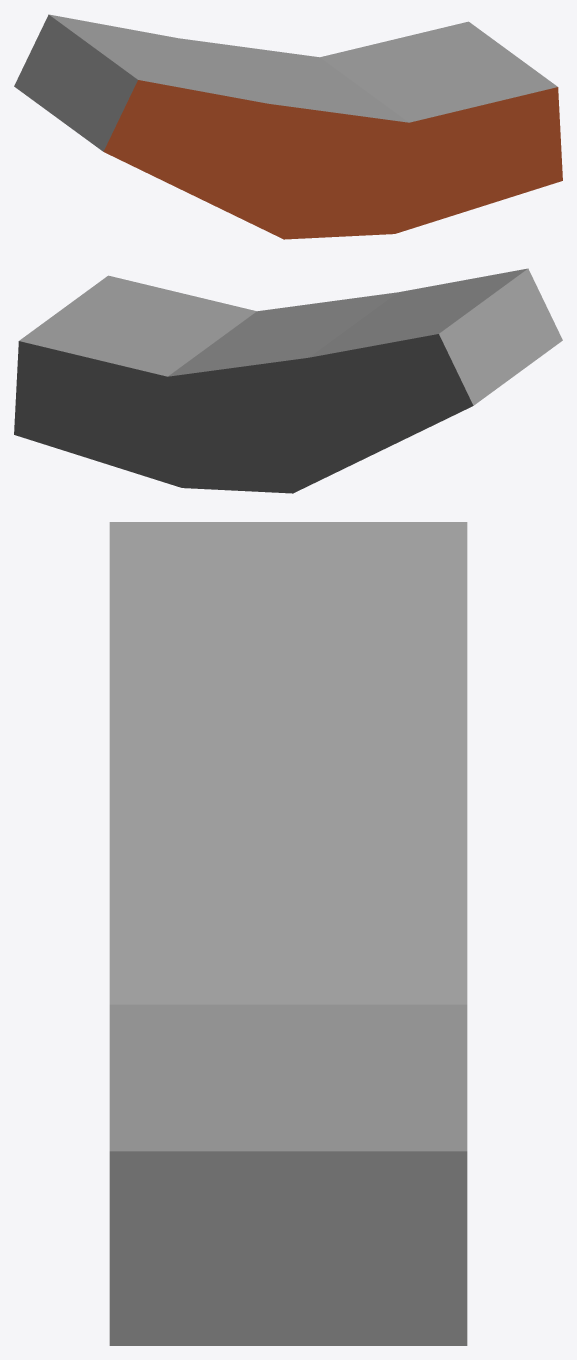
File: construction_5686_assumed_A_Casa_h6m.obj
3 renders of one model, top to bottom at view 1: azimuth 30°, elevation 25°; view 2: azimuth 150°, elevation 25°; view 3: azimuth 270°, elevation 25°, orthographic. The views are drawn at different scales.
Parts seen in each view (by area): view 1: construction_5686_assumed_A_Casa; view 2: construction_5686_assumed_A_Casa; view 3: construction_5686_assumed_A_Casa.
Boxes of the visible parts, x1,y1,x2,y2 form: construction_5686_assumed_A_Casa: (14, 14, 562, 239); construction_5686_assumed_A_Casa: (14, 268, 562, 493); construction_5686_assumed_A_Casa: (109, 522, 467, 1345).
Bounding box in the file's own units: 17.8 × 8.02 × 6.
